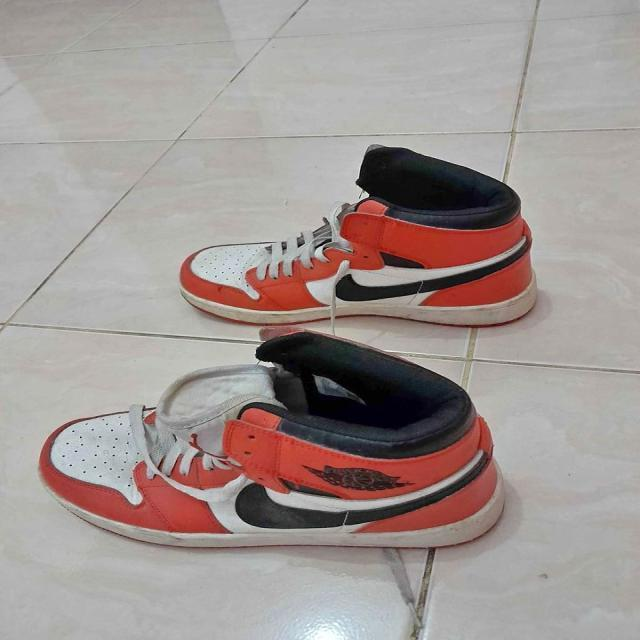nike fake jordan 1: (28, 330, 516, 554), (174, 148, 544, 330)
